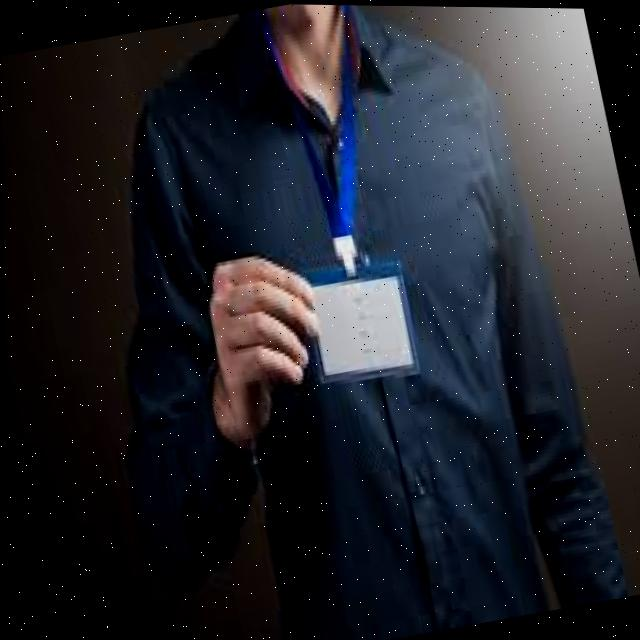id_card: (252, 53, 429, 404)
